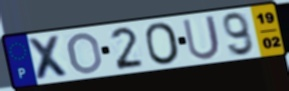2: (109, 25, 148, 72)
9: (220, 11, 256, 57)
O: (143, 21, 183, 66), (66, 31, 105, 76)
U: (181, 13, 223, 62)
X: (25, 34, 73, 82)
